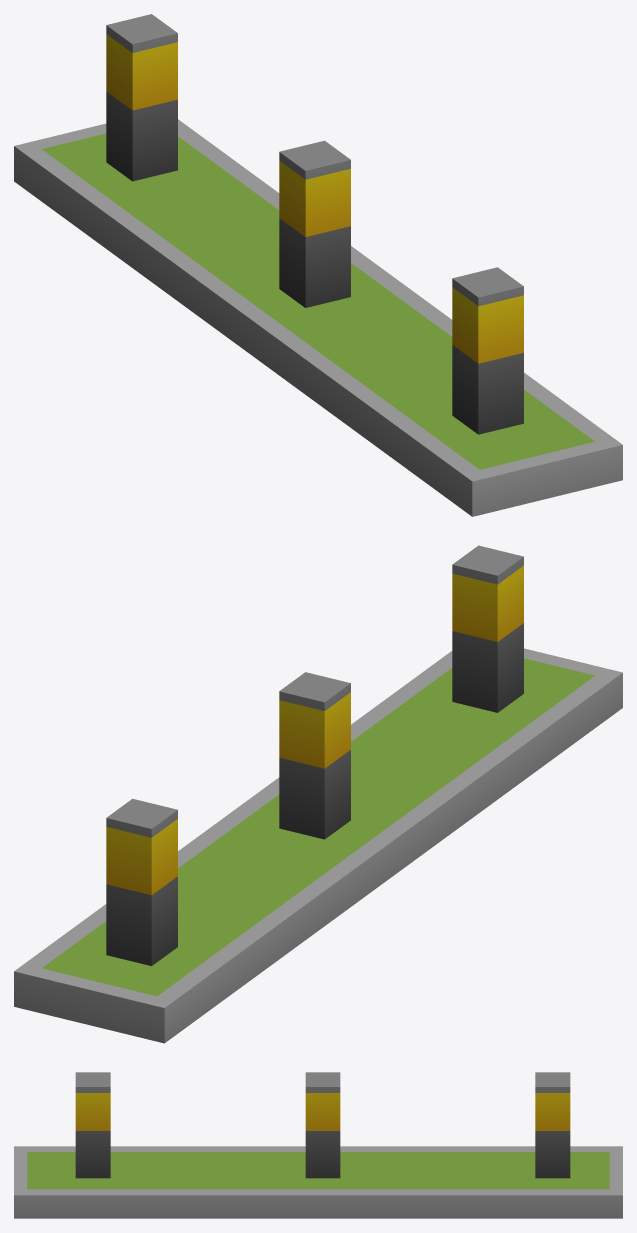
The model's file is lawn with lamp.fbx.
3 views of the same model, one above another, from view 1: azimuth 30°, elevation 25°; view 2: azimuth 150°, elevation 25°; view 3: azimuth 270°, elevation 25° (orthographic). The views are drawn at different scales.
Visible parts, largest first — view 1: lawn_with_lamp; view 2: lawn_with_lamp; view 3: lawn_with_lamp.
Boxes of the visible parts, <box> form: lawn_with_lamp: <box>14,14,622,516</box>; lawn_with_lamp: <box>14,545,622,1043</box>; lawn_with_lamp: <box>14,1072,622,1218</box>.
Size of the model in its own units: 105 by 115 by 554.
Materials: 1 (1 with a texture image).
